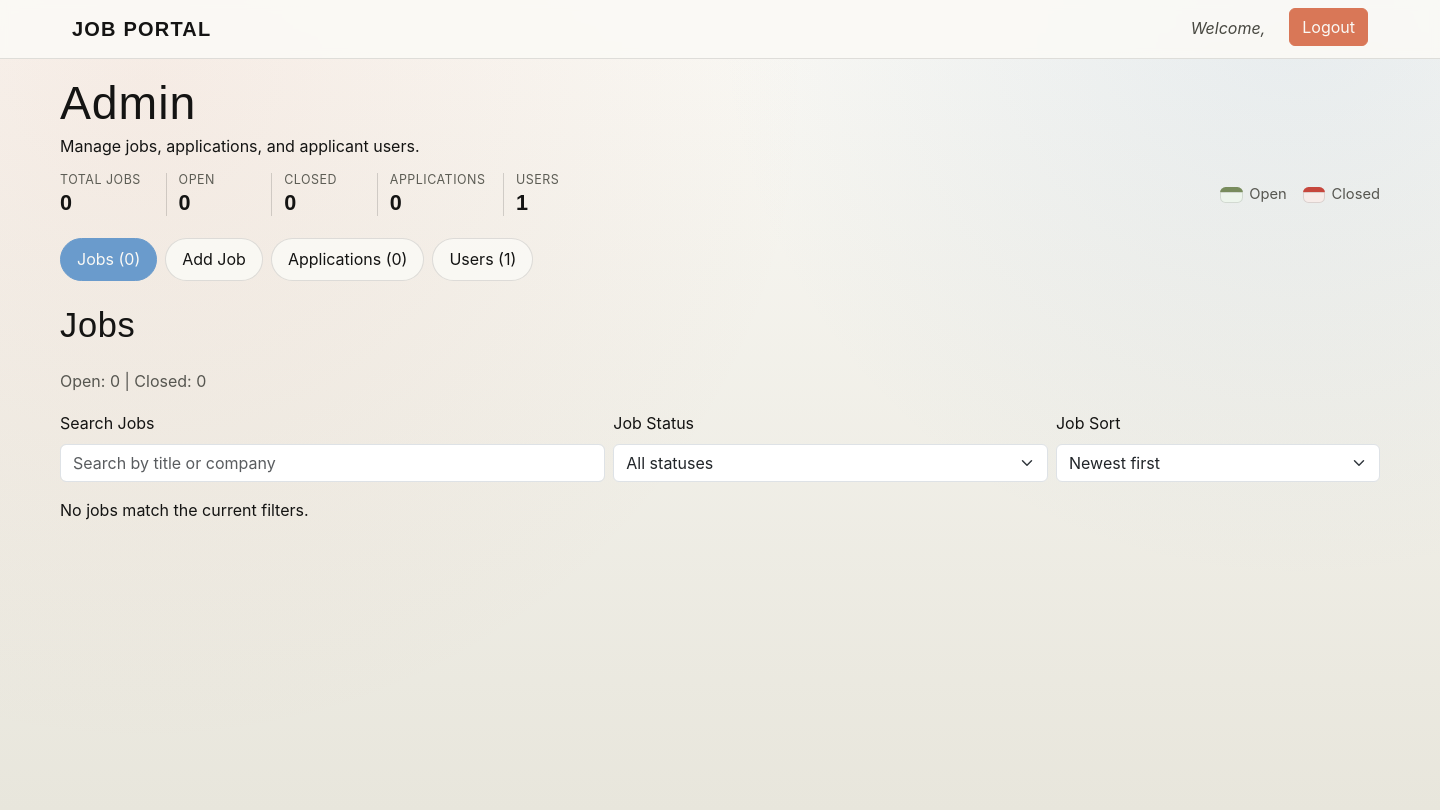
Test case: AdminDashboard › should disable applicant users from the users tab
What coordinates should you click on to do the following:
click the tab "Users (1)"
I would click on:
 (483, 260)
Its box is [432, 238, 533, 281].
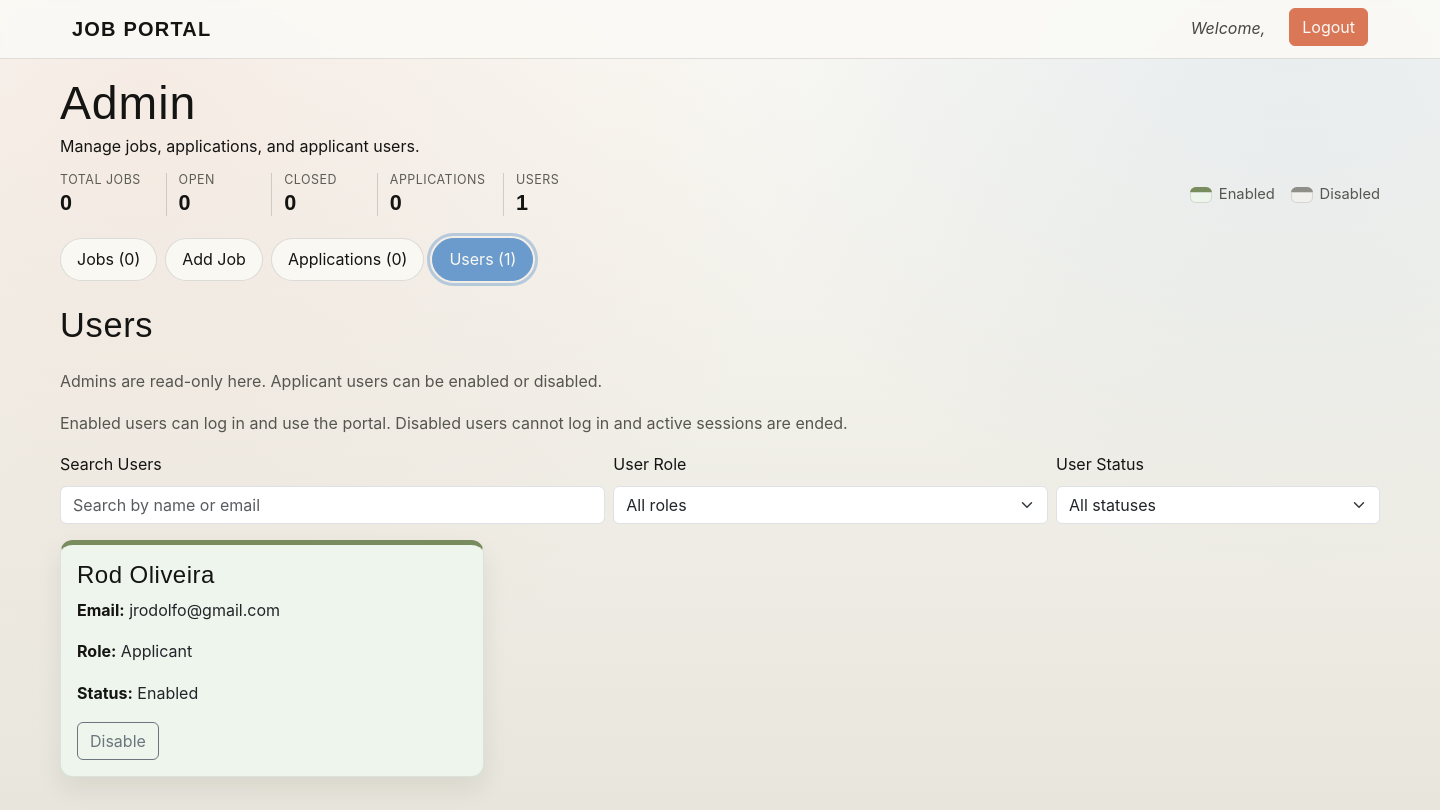
What coordinates should you click on to do the following:
click the button "Disable"
I would click on:
 (118, 741)
Its box is [77, 722, 159, 760].
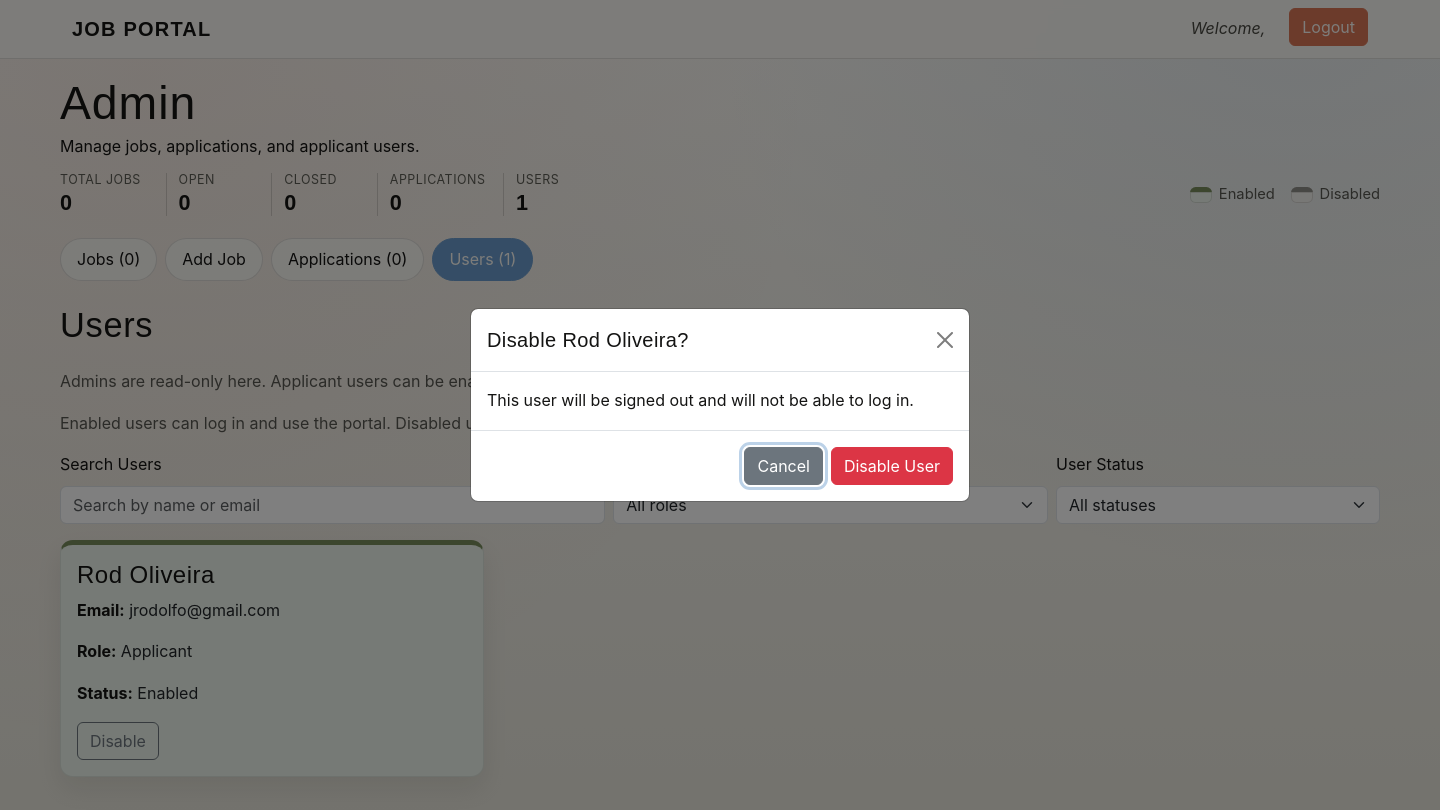
Expected: the text "This user will be signed out and will not be able to log in." is shown, [487, 388, 953, 414]
What coordinates should you click on to do the following:
click the button "Disable User"
I would click on:
 (892, 466)
Its box is [831, 447, 953, 485].
(page scrolled)
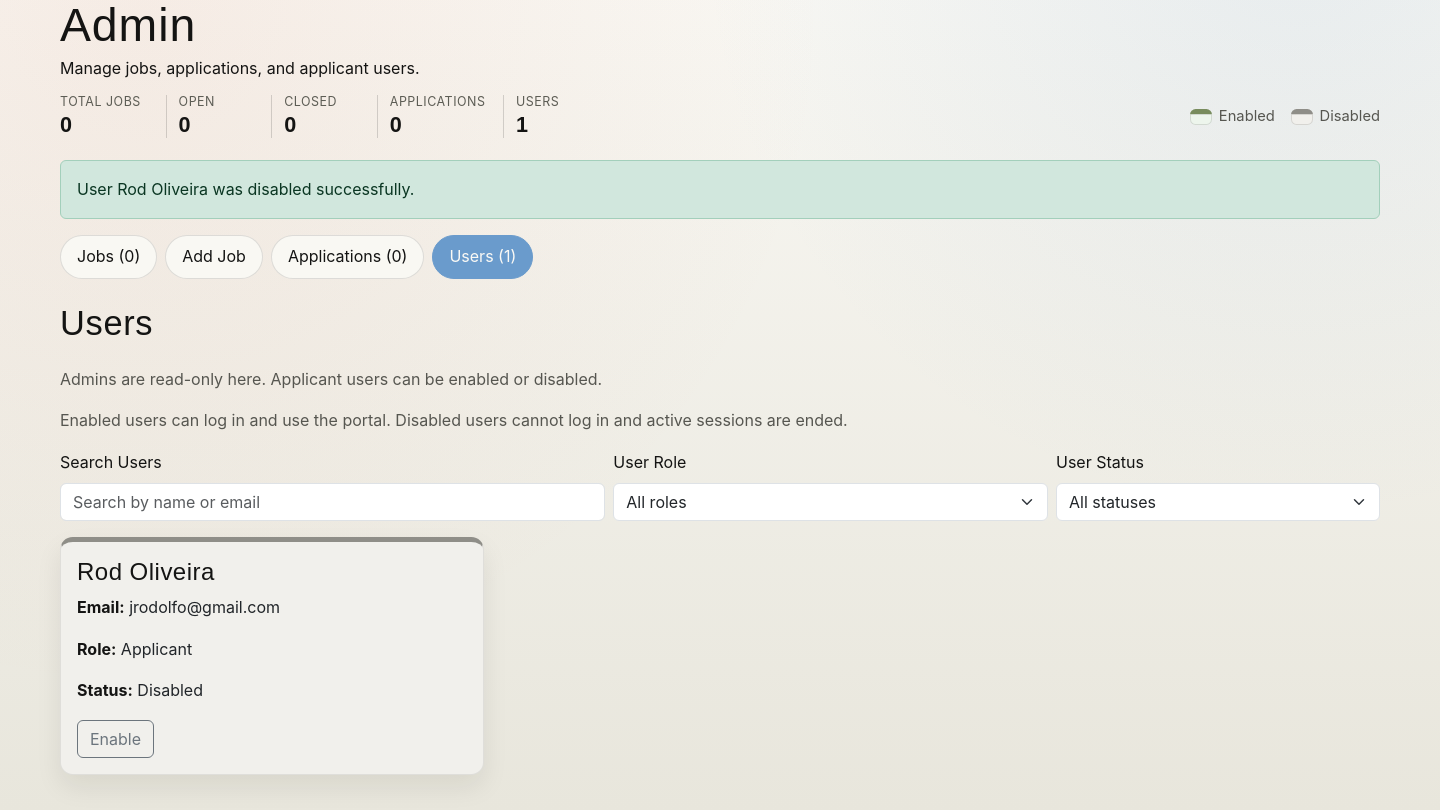
Expected: the text "User Rod Oliveira was disabled successfully." is shown, [60, 160, 1380, 219]
Expected: the button "Enable" is shown, [77, 720, 154, 758]
